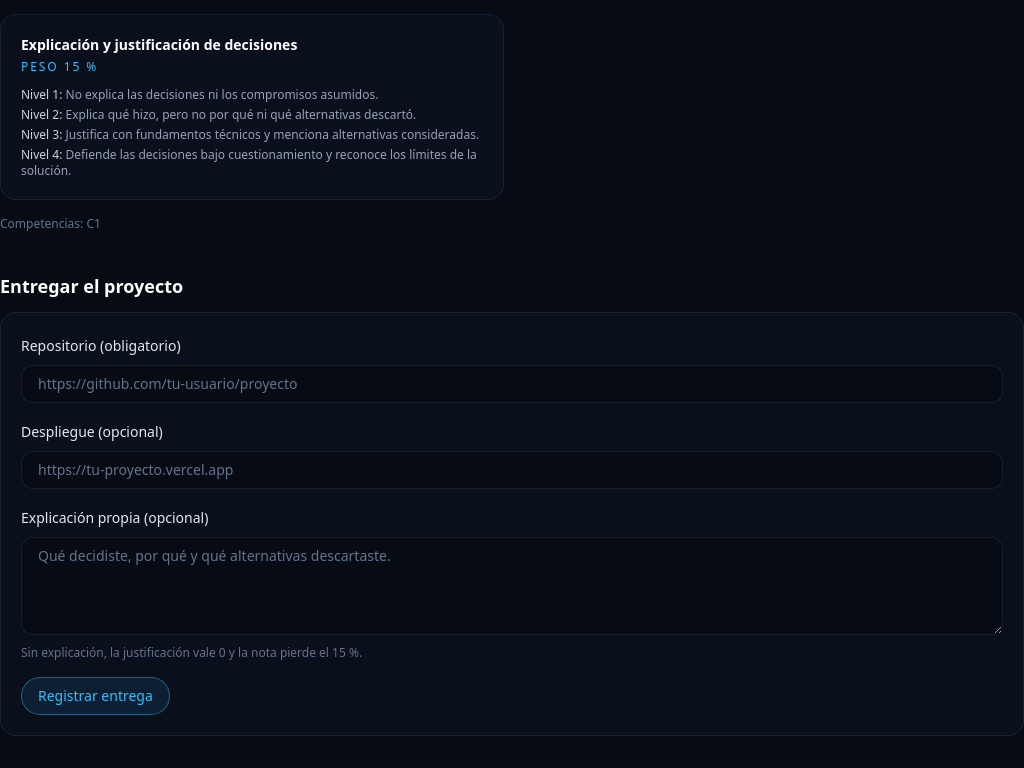
Test: ProjectWorkspace › registra una entrega, anuncia el éxito y la añade al historial
The image size is (1024, 768).
(page scrolled)
In the field labelled "Repositorio (obligatorio)": (512, 384) top-left (21, 365), bottom-right (1003, 403), type "https://github.com/ana/entorno"
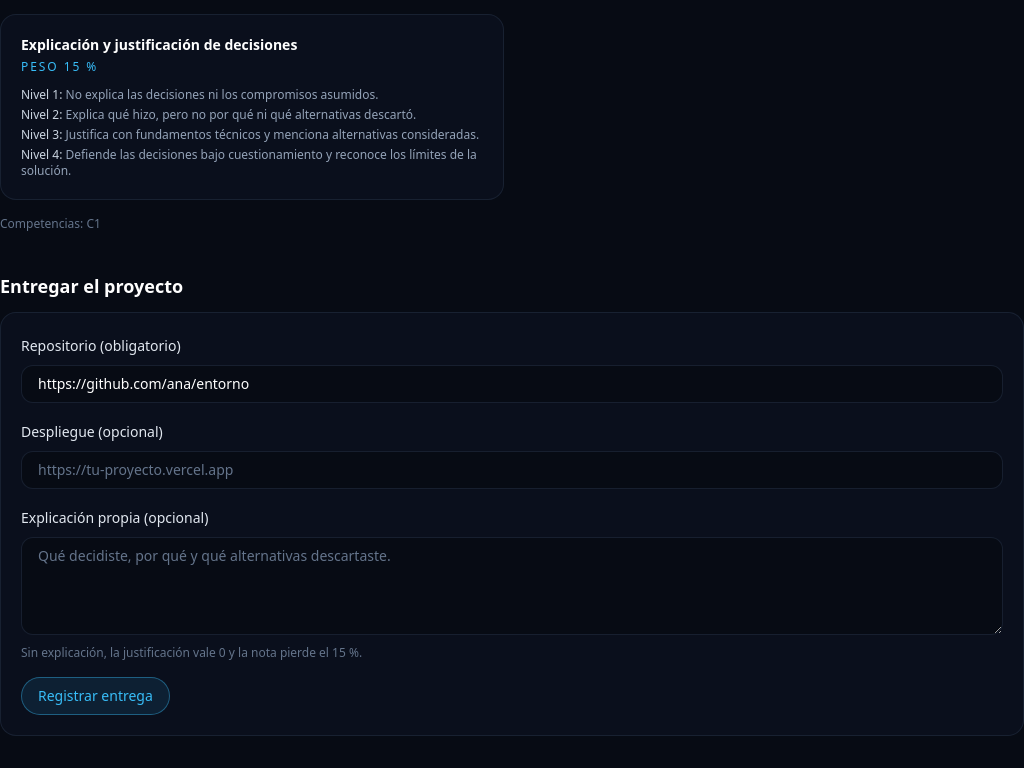
Click the button "Registrar entrega": (95, 696) top-left (21, 677), bottom-right (170, 715)
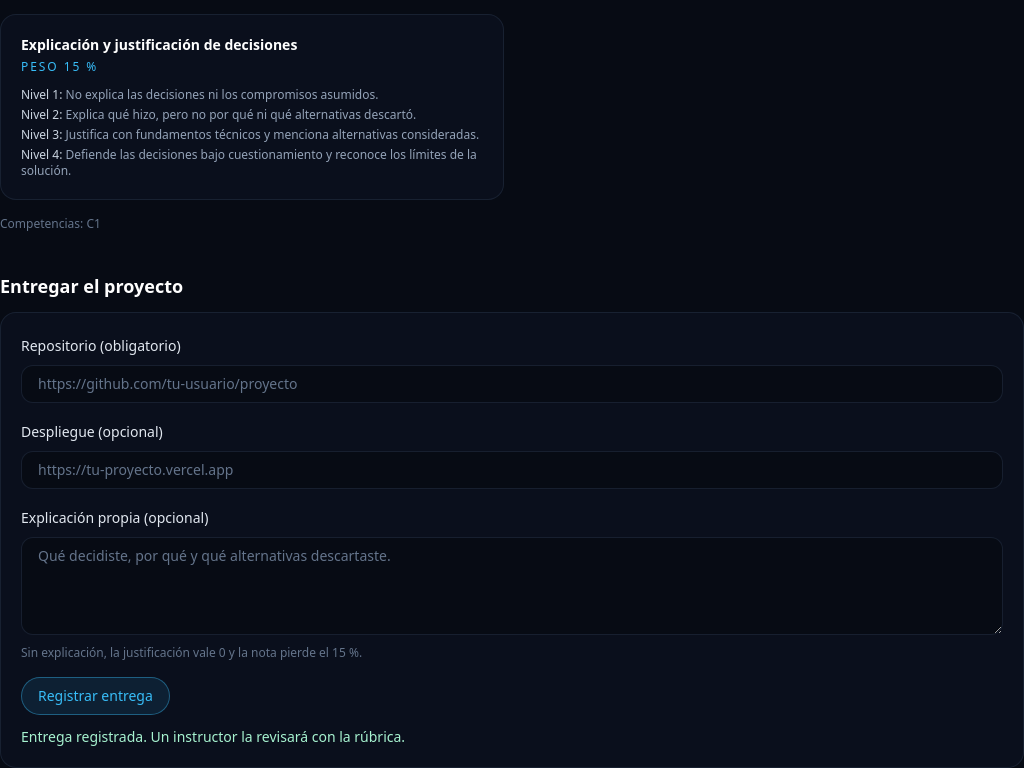
Check: the text "Entrega registrada. Un instructor la revisará con la rúbrica." is shown, box top-left (21, 727), bottom-right (405, 746)
Check: the field labelled "Repositorio (obligatorio)" is empty, box top-left (21, 365), bottom-right (1003, 403)
